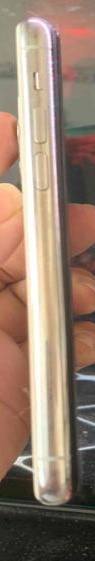scratch: (47, 28, 69, 246)
